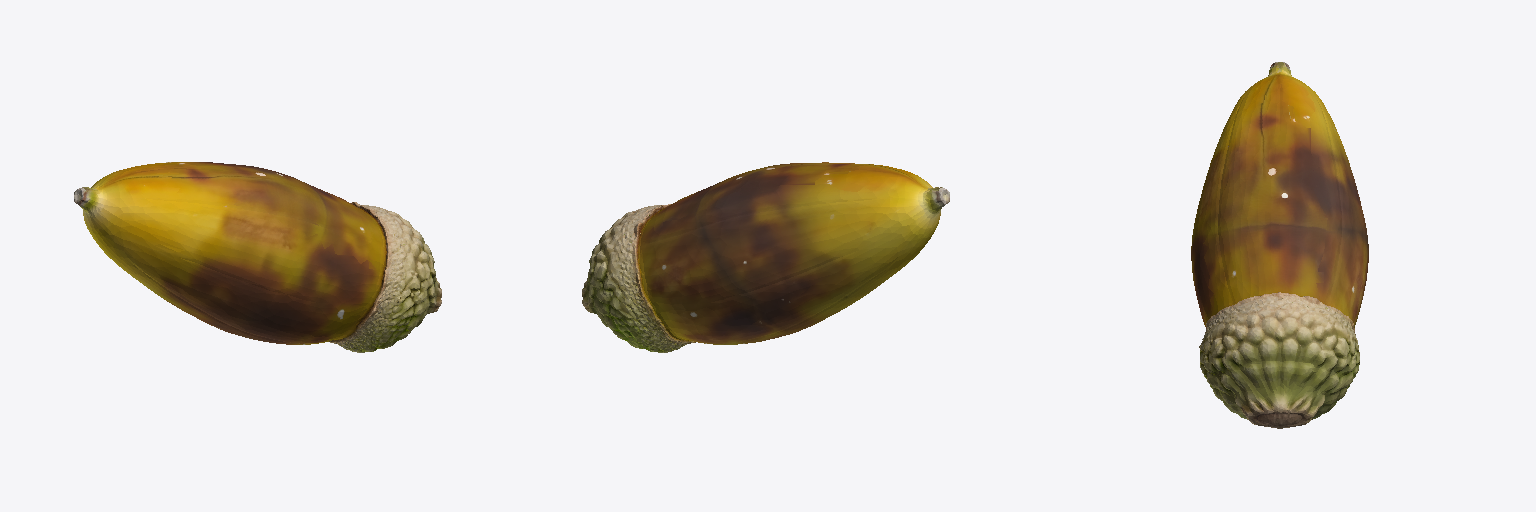
3 views of the same model, side by side, from view 1: azimuth 30°, elevation 25°; view 2: azimuth 150°, elevation 25°; view 3: azimuth 270°, elevation 25° (orthographic).
Visible parts, largest first — view 1: Meshy_AI_Acorn_[number redacted]_texture; view 2: Meshy_AI_Acorn_[number redacted]_texture; view 3: Meshy_AI_Acorn_[number redacted]_texture.
Part boxes in pixels (left/top/right/bottom): Meshy_AI_Acorn_[number redacted]_texture: left=74, top=162, right=441, bottom=352; Meshy_AI_Acorn_[number redacted]_texture: left=582, top=162, right=949, bottom=352; Meshy_AI_Acorn_[number redacted]_texture: left=1191, top=62, right=1368, bottom=428.
Bounding box in the file's own units: 2 × 1.2 × 0.8574.
1 materials, 1 textured.